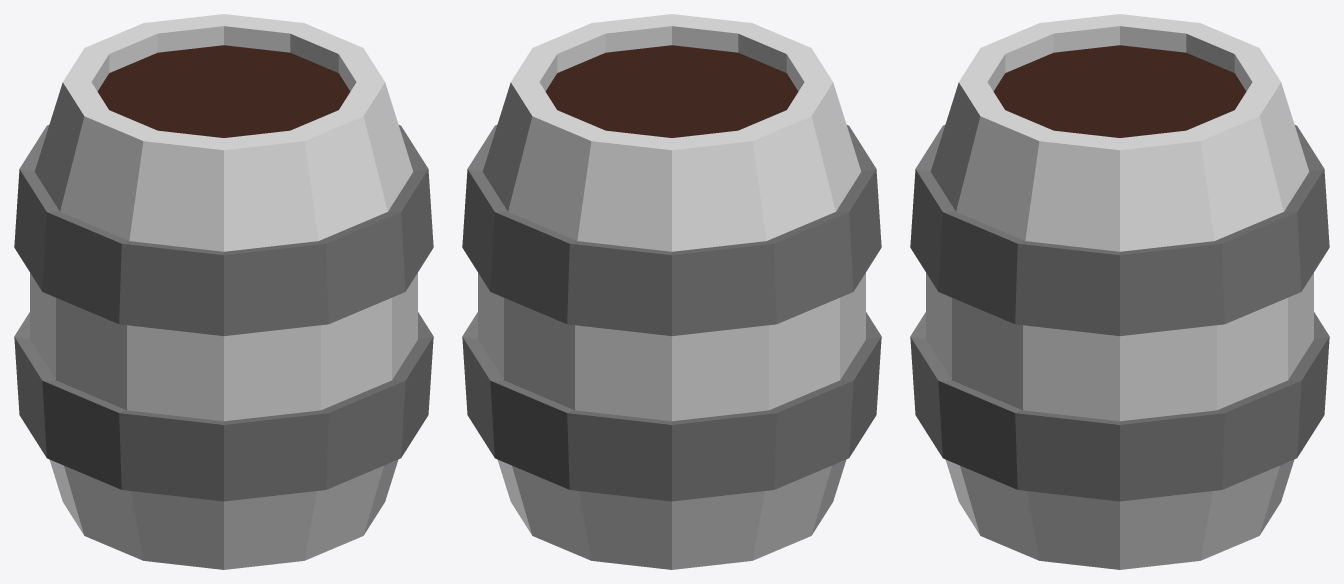
Rendered from _arrel.fbx.
The picture shows the model from 3 angles, left to right: view 1: azimuth 30°, elevation 25°; view 2: azimuth 150°, elevation 25°; view 3: azimuth 270°, elevation 25°; orthographic projection.
Visible parts, largest first — view 1: Cylinder; view 2: Cylinder; view 3: Cylinder.
Boxes of the visible parts, x1,y1,x2,y2 form: Cylinder: (14, 14, 433, 569); Cylinder: (462, 14, 881, 569); Cylinder: (910, 14, 1329, 569).
Size of the model in its own units: 260 by 287 by 260.
